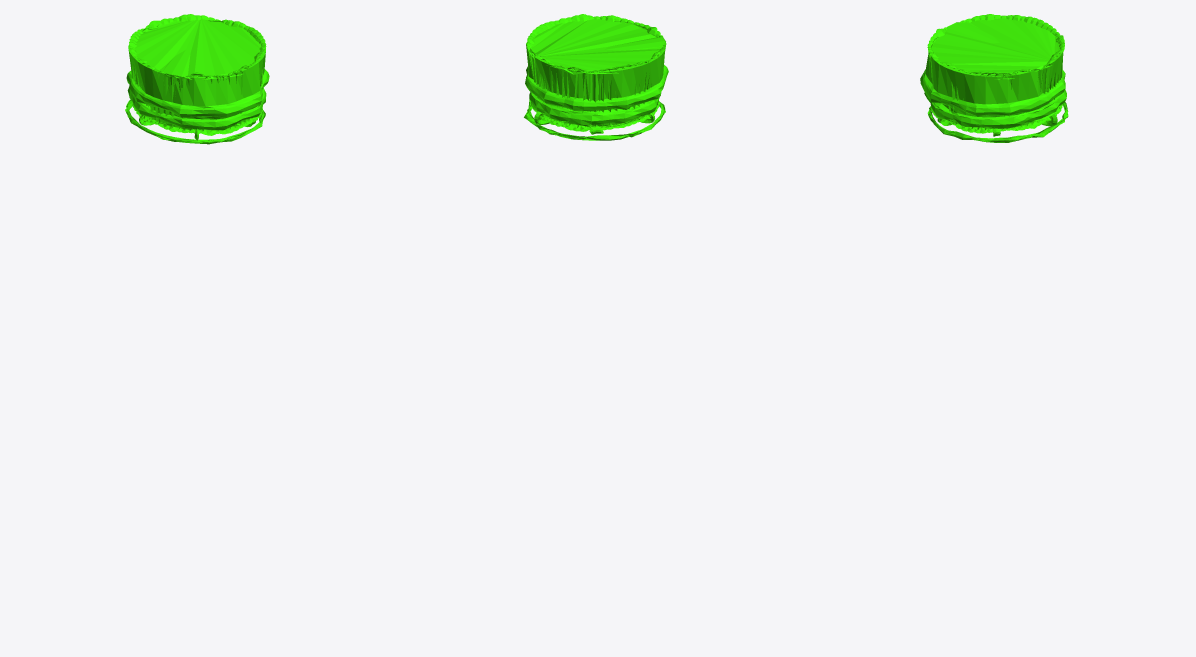
Rendered from crush_low_0.obj.
The picture shows the model from 3 angles, left to right: view 1: azimuth 30°, elevation 25°; view 2: azimuth 150°, elevation 25°; view 3: azimuth 270°, elevation 25°; orthographic projection.
Visible parts, largest first — view 1: model; view 2: model; view 3: model.
Part boxes in pixels (box(x1,y1,x2,y2)): model: box(125, 14, 269, 144); model: box(524, 14, 668, 140); model: box(920, 14, 1068, 142).
Bounding box in the file's own units: 0.117 × 0.192 × 0.1204.
1 material, 1 textured.
